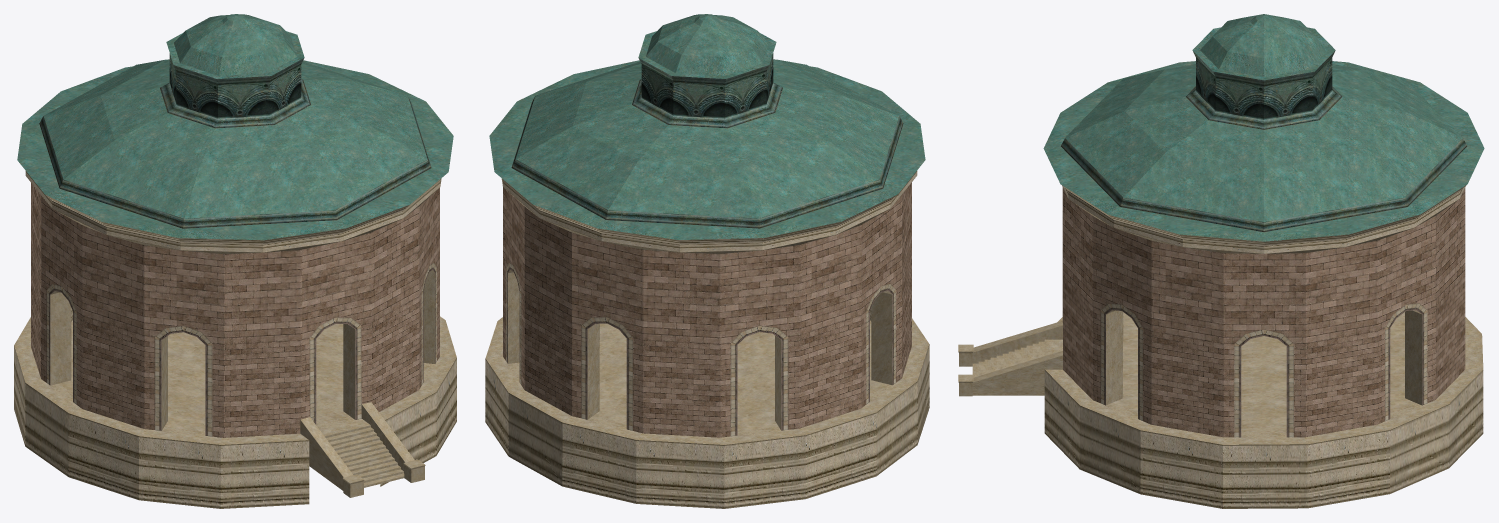
Rendered from thm_nboo_thed_imprv_building_s02_l0.fbx.
3 views of the same model, side by side, from view 1: azimuth 30°, elevation 25°; view 2: azimuth 150°, elevation 25°; view 3: azimuth 270°, elevation 25° (orthographic).
Visible parts, largest first — view 1: mesh_node; view 2: mesh_node; view 3: mesh_node.
Boxes of the visible parts, x1,y1,x2,y2 form: mesh_node: (14,14,456,508); mesh_node: (485,14,929,508); mesh_node: (958,14,1484,508).
Bounding box in the file's own units: 13.15 × 13.18 × 15.69.
